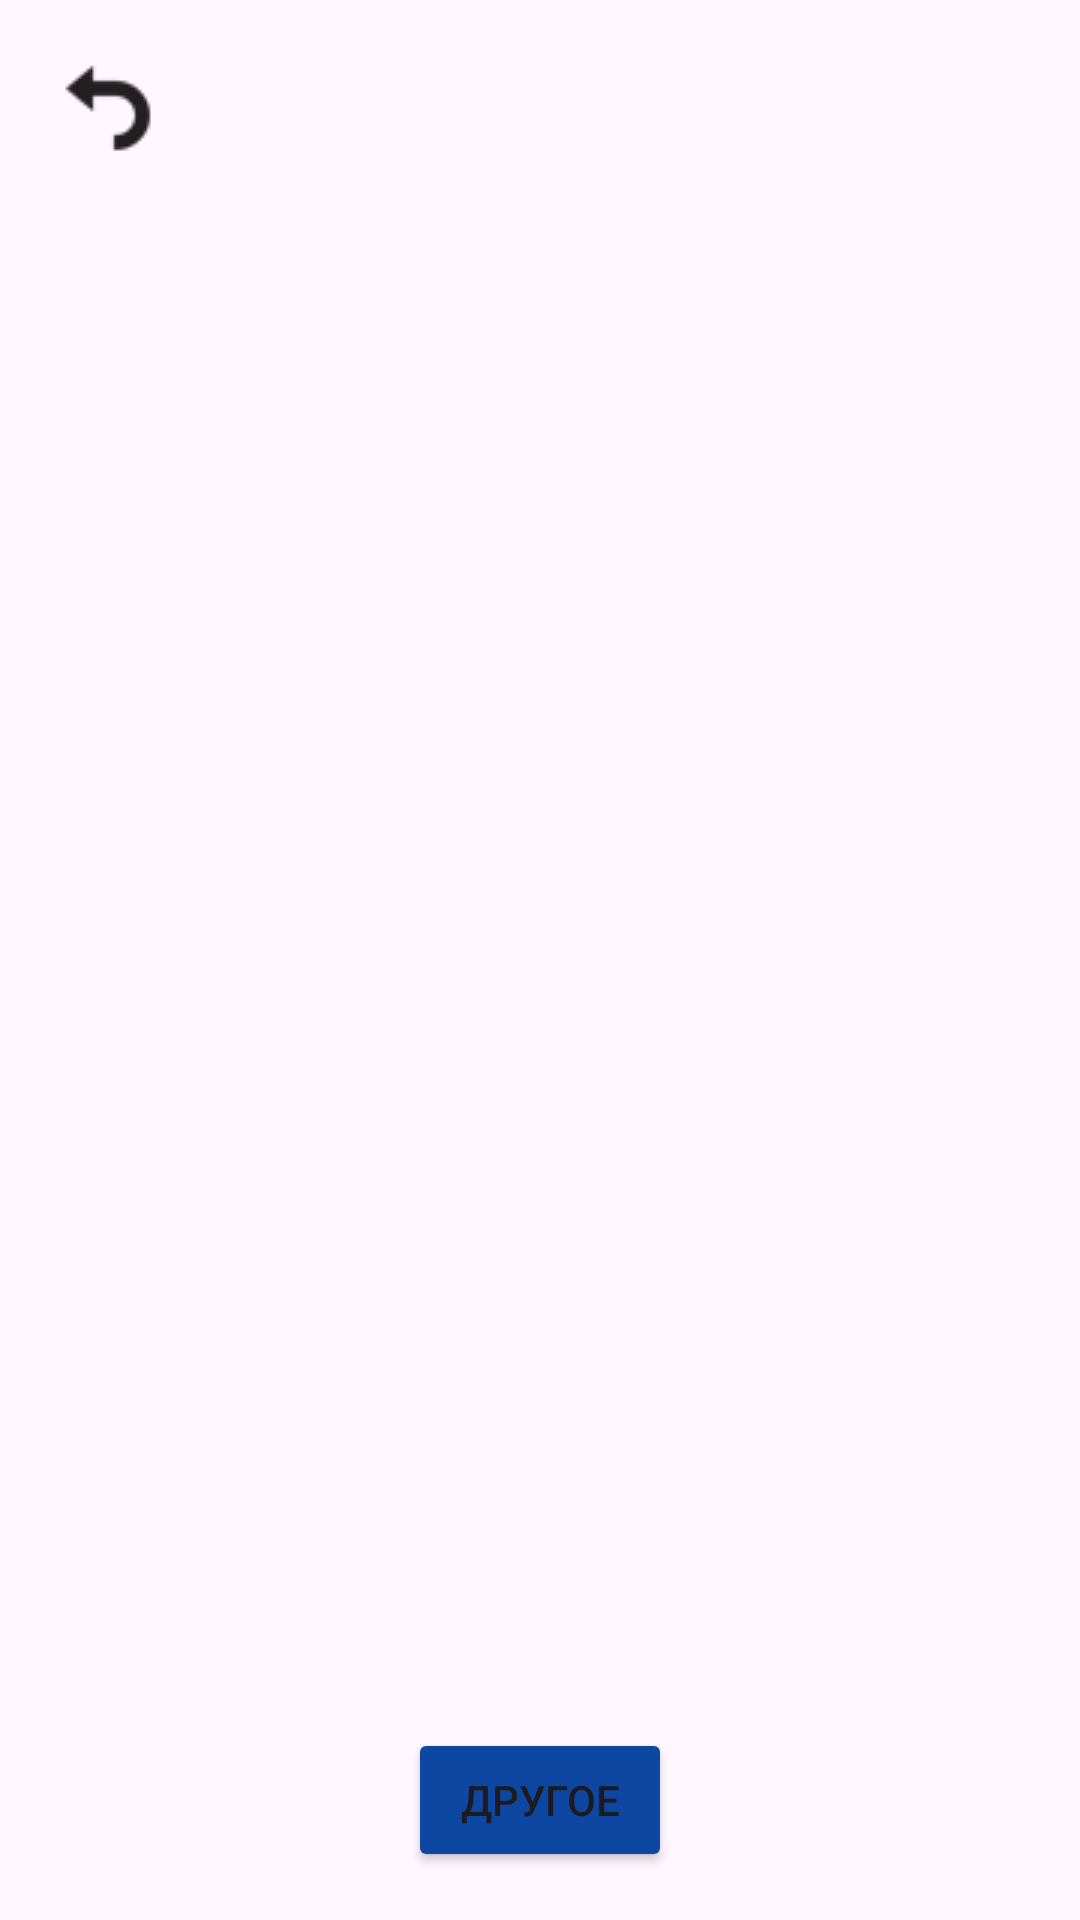

Named icons in this screenshot (1080×1920) and their centers, [x,y]:
back: [108,108]
